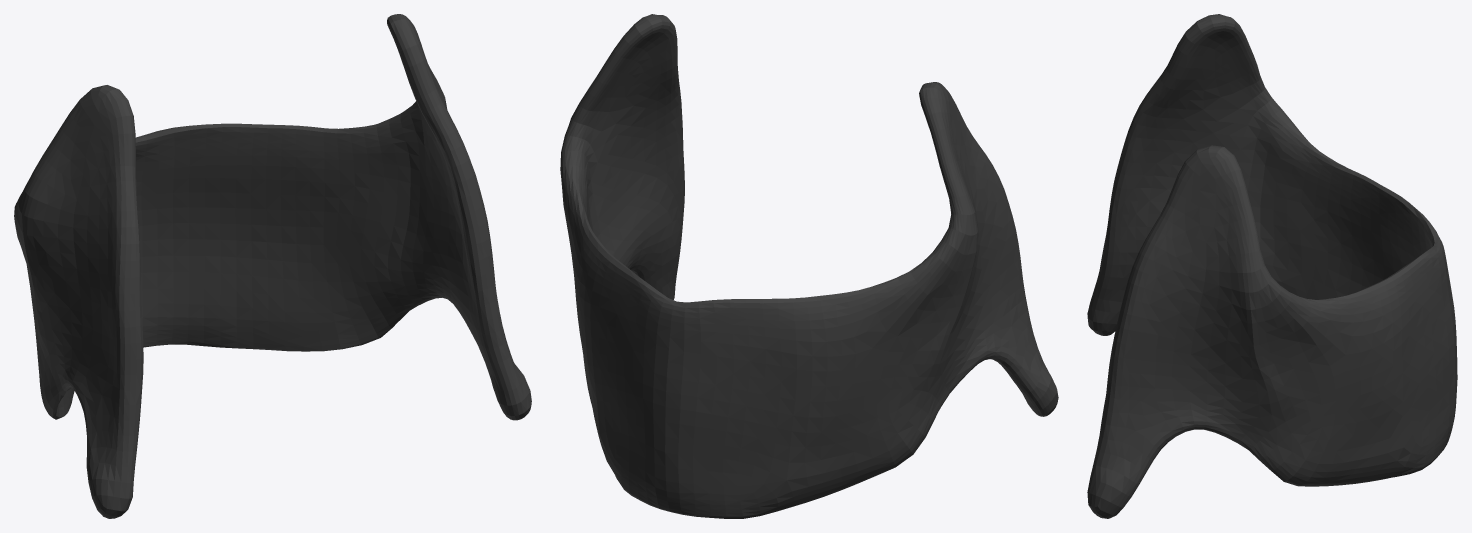
File: cart_thyroid_LO.glb
The picture shows the model from 3 angles, left to right: view 1: azimuth 30°, elevation 25°; view 2: azimuth 150°, elevation 25°; view 3: azimuth 270°, elevation 25°; orthographic projection. The views are drawn at different scales.
Parts seen in each view (by area): view 1: cart_thyroid_LO; view 2: cart_thyroid_LO; view 3: cart_thyroid_LO.
Boxes of the visible parts, x1=… form: cart_thyroid_LO: x1=14, y1=14, x2=531, y2=518; cart_thyroid_LO: x1=560, y1=14, x2=1058, y2=518; cart_thyroid_LO: x1=1087, y1=14, x2=1457, y2=518.
Bounding box in the file's own units: 0.3925 × 0.3376 × 0.3143.
1 material, 1 textured.
